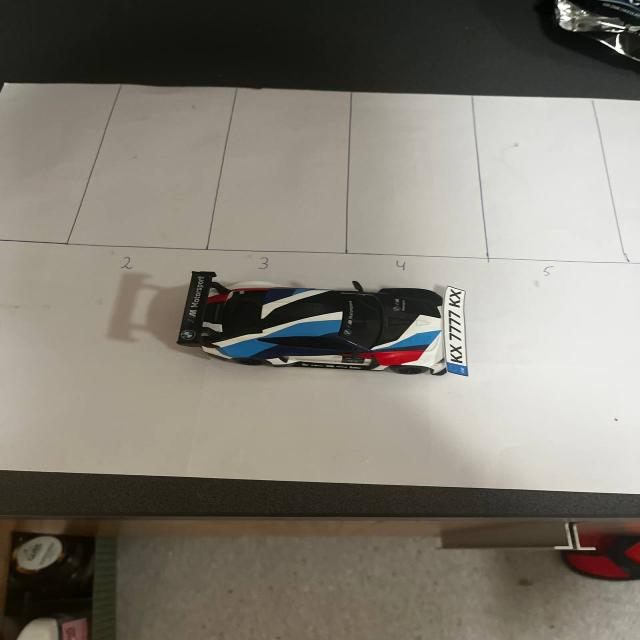cars: (161, 259, 484, 383)
